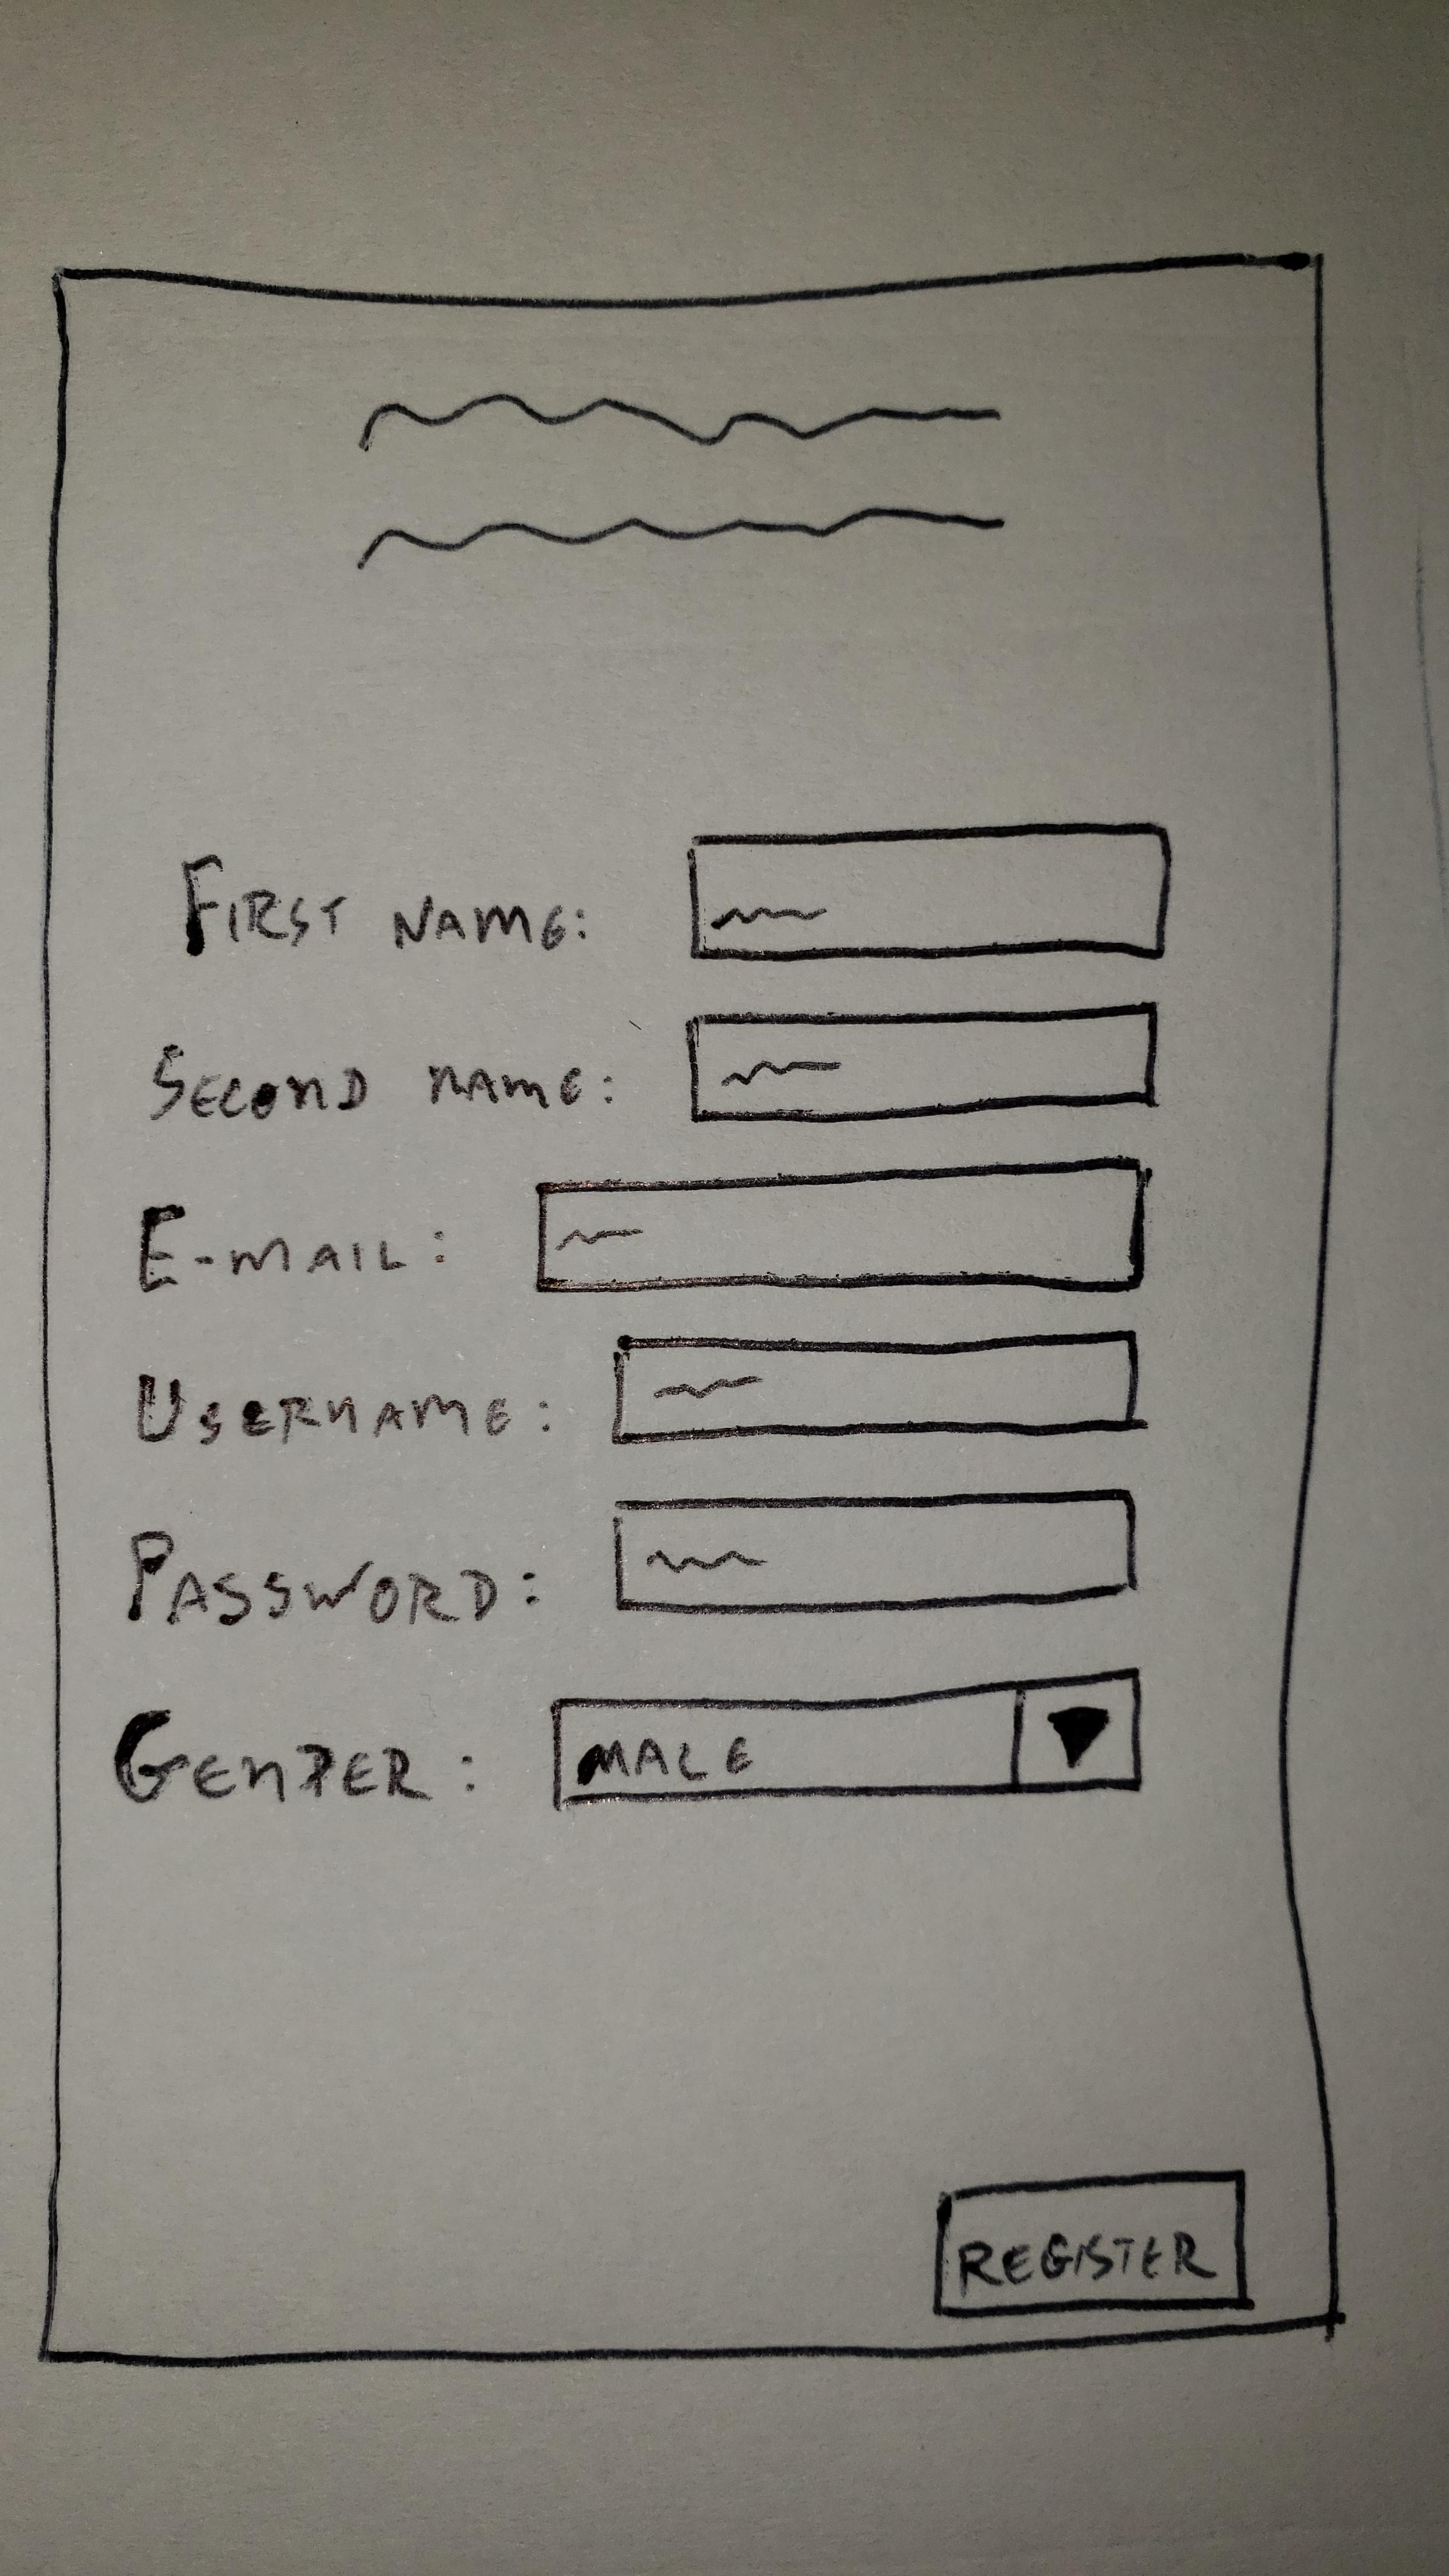Button: (929, 2167, 1249, 2319)
Label: (354, 386, 1007, 571), (173, 849, 598, 962), (140, 1037, 619, 1134), (124, 1530, 545, 1631), (111, 1702, 483, 1812), (131, 1368, 557, 1449), (138, 1200, 455, 1293)
ListPicker: (552, 1667, 1145, 1808)
Screen: (37, 251, 1343, 2365)
TextBox: (533, 1157, 1152, 1292), (681, 814, 1175, 962), (612, 1486, 1138, 1615), (607, 1327, 1139, 1445), (685, 1000, 1157, 1127)
